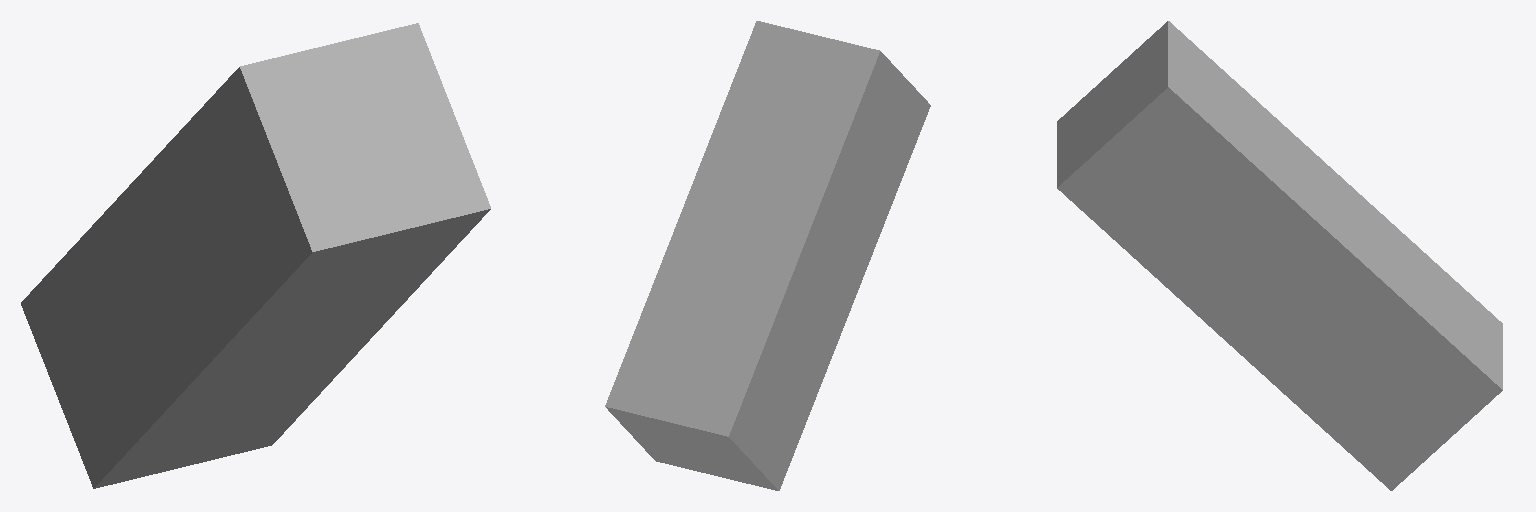
robot.urdf — panda:
<?xml version="1.0" ?>
<robot name="panda" version="1.0">
   <link name="panda_link0">
      <inertial>
         <origin xyz="0.0 0.0 0.0" rpy="0.0 0.0 0.0"/>
         <mass value="2.8142028896"/>
         <inertia ixx="0.0129886979" ixy="0.0" ixz="0.0" iyy="0.0165355284" iyz="0.0" izz="0.0203311636"/>
      </inertial>
      <visual>
         <geometry>
            <mesh filename="package://franka_description/meshes/visual/link0.dae"/>
         </geometry>
      </visual>
      <collision>
         <geometry>
            <mesh filename="package://franka_description/meshes/collision/link0.stl"/>
         </geometry>
      </collision>
   </link>
   <link name="panda_link1">
      <inertial>
         <origin xyz="0.0 0.0 0.0" rpy="0.0 0.0 0.0"/>
         <mass value="2.3599995791"/>
         <inertia ixx="0.0186863903" ixy="0.0" ixz="0.0" iyy="0.0143789874" iyz="0.0" izz="0.00906812"/>
      </inertial>
      <visual>
         <geometry>
            <mesh filename="package://franka_description/meshes/visual/link1.dae"/>
         </geometry>
      </visual>
      <collision>
         <geometry>
            <mesh filename="package://franka_description/meshes/collision/link1.stl"/>
         </geometry>
      </collision>
   </link>
   <joint name="panda_joint1" type="revolute">
      <origin xyz="0.0 0.0 0.333" rpy="0.0 0.0 0.0"/>
      <axis xyz="0.0 0.0 1.0"/>
      <parent link="panda_link0"/>
      <child link="panda_link1"/>
      <limit effort="87.0" lower="-2.8973" upper="2.8973" velocity="2.175"/>
      <safety_controller k_velocity="40.0" k_position="100.0" soft_lower_limit="-2.8973" soft_upper_limit="2.8973"/>
   </joint>
   <link name="panda_link2">
      <inertial>
         <origin xyz="0.0 0.0 0.0" rpy="0.0 0.0 0.0"/>
         <mass value="2.379518833"/>
         <inertia ixx="0.0190388734" ixy="0.0" ixz="0.0" iyy="0.0091429124" iyz="0.0" izz="0.014697537"/>
      </inertial>
      <visual>
         <geometry>
            <mesh filename="package://franka_description/meshes/visual/link2.dae"/>
         </geometry>
      </visual>
      <collision>
         <geometry>
            <mesh filename="package://franka_description/meshes/collision/link2.stl"/>
         </geometry>
      </collision>
   </link>
   <joint name="panda_joint2" type="revolute">
      <origin xyz="0.0 0.0 0.0" rpy="-1.57079632679 0.0 0.0"/>
      <axis xyz="0.0 0.0 1.0"/>
      <parent link="panda_link1"/>
      <child link="panda_link2"/>
      <limit effort="87.0" lower="-1.7628" upper="1.7628" velocity="2.175"/>
      <safety_controller k_velocity="40.0" k_position="100.0" soft_lower_limit="-1.7628" soft_upper_limit="1.7628"/>
   </joint>
   <link name="panda_link3">
      <inertial>
         <origin xyz="0.0 0.0 0.0" rpy="0.0 0.0 0.0"/>
         <mass value="2.6498823337"/>
         <inertia ixx="0.0129300178" ixy="0.0" ixz="0.0" iyy="0.0150242121" iyz="0.0" izz="0.0142734598"/>
      </inertial>
      <visual>
         <geometry>
            <mesh filename="package://franka_description/meshes/visual/link3.dae"/>
         </geometry>
      </visual>
      <collision>
         <geometry>
            <mesh filename="package://franka_description/meshes/collision/link3.stl"/>
         </geometry>
      </collision>
   </link>
   <joint name="panda_joint3" type="revolute">
      <origin xyz="0.0 -0.316 0.0" rpy="1.57079632679 0.0 0.0"/>
      <axis xyz="0.0 0.0 1.0"/>
      <parent link="panda_link2"/>
      <child link="panda_link3"/>
      <limit effort="87.0" lower="-2.8973" upper="2.8973" velocity="2.175"/>
      <safety_controller k_velocity="40.0" k_position="100.0" soft_lower_limit="-2.8973" soft_upper_limit="2.8973"/>
   </joint>
   <link name="panda_link4">
      <inertial>
         <origin xyz="0.0 0.0 0.0" rpy="0.0 0.0 0.0"/>
         <mass value="2.6948018744"/>
         <inertia ixx="0.0133874611" ixy="0.0" ixz="0.0" iyy="0.014514325" iyz="0.0" izz="0.0155175551"/>
      </inertial>
      <visual>
         <geometry>
            <mesh filename="package://franka_description/meshes/visual/link4.dae"/>
         </geometry>
      </visual>
      <collision>
         <geometry>
            <mesh filename="package://franka_description/meshes/collision/link4.stl"/>
         </geometry>
      </collision>
   </link>
   <joint name="panda_joint4" type="revolute">
      <origin xyz="0.0825 0.0 0.0" rpy="1.57079632679 0.0 0.0"/>
      <axis xyz="0.0 0.0 1.0"/>
      <parent link="panda_link3"/>
      <child link="panda_link4"/>
      <limit effort="87.0" lower="-3.0718" upper="-0.0698" velocity="2.175"/>
      <safety_controller k_velocity="40.0" k_position="100.0" soft_lower_limit="-3.0718" soft_upper_limit="-0.0698"/>
   </joint>
   <link name="panda_link5">
      <inertial>
         <origin xyz="0.0 0.0 0.0" rpy="0.0 0.0 0.0"/>
         <mass value="2.9812816864"/>
         <inertia ixx="0.0325565705" ixy="0.0" ixz="0.0" iyy="0.0270660472" iyz="0.0" izz="0.0115023375"/>
      </inertial>
      <visual>
         <geometry>
            <mesh filename="package://franka_description/meshes/visual/link5.dae"/>
         </geometry>
      </visual>
      <collision>
         <geometry>
            <mesh filename="package://franka_description/meshes/collision/link5.stl"/>
         </geometry>
      </collision>
   </link>
   <joint name="panda_joint5" type="revolute">
      <origin xyz="-0.0825 0.384 0.0" rpy="-1.57079632679 0.0 0.0"/>
      <axis xyz="0.0 0.0 1.0"/>
      <parent link="panda_link4"/>
      <child link="panda_link5"/>
      <limit effort="12.0" lower="-2.8973" upper="2.8973" velocity="2.61"/>
      <safety_controller k_velocity="40.0" k_position="100.0" soft_lower_limit="-2.8973" soft_upper_limit="2.8973"/>
   </joint>
   <link name="panda_link6">
      <inertial>
         <origin xyz="0.0 0.0 0.0" rpy="0.0 0.0 0.0"/>
         <mass value="1.1285806309"/>
         <inertia ixx="0.0026052565" ixy="0.0" ixz="0.0" iyy="0.0039897229" iyz="0.0" izz="0.0047048591"/>
      </inertial>
      <visual>
         <geometry>
            <mesh filename="package://franka_description/meshes/visual/link6.dae"/>
         </geometry>
      </visual>
      <collision>
         <geometry>
            <mesh filename="package://franka_description/meshes/collision/link6.stl"/>
         </geometry>
      </collision>
   </link>
   <joint name="panda_joint6" type="revolute">
      <origin xyz="0.0 0.0 0.0" rpy="1.57079632679 0.0 0.0"/>
      <axis xyz="0.0 0.0 1.0"/>
      <parent link="panda_link5"/>
      <child link="panda_link6"/>
      <limit effort="12.0" lower="-0.0175" upper="3.7525" velocity="2.61"/>
      <safety_controller k_velocity="40.0" k_position="100.0" soft_lower_limit="-0.0175" soft_upper_limit="3.7525"/>
   </joint>
   <link name="panda_link7">
      <inertial>
         <origin xyz="0.0 0.0 0.0" rpy="0.0 0.0 0.0"/>
         <mass value="0.4052912465"/>
         <inertia ixx="0.0006316592" ixy="0.0" ixz="0.0" iyy="0.0006319639" iyz="0.0" izz="0.0010607721"/>
      </inertial>
      <visual>
         <geometry>
            <mesh filename="package://franka_description/meshes/visual/link7.dae"/>
         </geometry>
      </visual>
      <collision>
         <geometry>
            <mesh filename="package://franka_description/meshes/collision/link7.stl"/>
         </geometry>
      </collision>
   </link>
   <joint name="panda_joint7" type="revolute">
      <origin xyz="0.088 0.0 0.0" rpy="1.57079632679 0.0 0.0"/>
      <axis xyz="0.0 0.0 1.0"/>
      <parent link="panda_link6"/>
      <child link="panda_link7"/>
      <limit effort="12.0" lower="-2.8973" upper="2.8973" velocity="2.61"/>
      <safety_controller k_velocity="40.0" k_position="100.0" soft_lower_limit="-2.8973" soft_upper_limit="2.8973"/>
   </joint>
   <link name="panda_link8"/>
   <joint name="panda_joint8" type="fixed">
      <origin xyz="0.0 0.0 0.107" rpy="0.0 0.0 0.0"/>
      <axis xyz="0.0 0.0 0.0"/>
      <parent link="panda_link7"/>
      <child link="panda_link8"/>
   </joint>
   <joint name="panda_hand_joint" type="fixed">
      <origin xyz="0.0 0.0 0.0" rpy="0.0 0.0 -0.785398163397"/>
      <parent link="panda_link8"/>
      <child link="panda_hand"/>
   </joint>
   <link name="panda_hand">
      <inertial>
         <origin xyz="0.0 0.0 0.0" rpy="0.0 0.0 0.0"/>
         <mass value="0.5583304799"/>
         <inertia ixx="0.0023394448" ixy="0.0" ixz="0.0" iyy="0.0005782786" iyz="0.0" izz="0.0021310296"/>
      </inertial>
      <visual>
         <geometry>
            <mesh filename="package://franka_description/meshes/visual/hand.dae"/>
         </geometry>
      </visual>
      <collision>
         <geometry>
            <mesh filename="package://franka_description/meshes/collision/hand.stl"/>
         </geometry>
      </collision>
   </link>
   <joint name="ee_fixed_joint" type="fixed">
      <origin xyz="0.0 0.0 0.1" rpy="0.0 0.0 -1.57"/>
      <parent link="panda_hand"/>
      <child link="ee_link"/>
   </joint>
   <link name="ee_link">
      <collision>
         <origin xyz="0.0 0.0 0.0" rpy="0.0 0.0 0.0"/>
         <geometry>
            <box size="0.01 0.01 0.01"/>
         </geometry>
      </collision>
   </link>
   <joint name="joint_panda_link2_sphere_0" type="fixed">
      <origin xyz="0.0 0.0 0.03" rpy="0.0 0.0 0.0"/>
      <parent link="panda_link2"/>
      <child link="panda_link2_0"/>
   </joint>
   <link name="panda_link2_0">
      <origin xyz="0.0 0.0 0.0" rpy="0.0 0.0 0.0"/>
   </link>
   <joint name="joint_panda_link2_sphere_1" type="fixed">
      <origin xyz="0.0 0.0 0.08" rpy="0.0 0.0 0.0"/>
      <parent link="panda_link2"/>
      <child link="panda_link2_1"/>
   </joint>
   <link name="panda_link2_1">
      <origin xyz="0.0 0.0 0.0" rpy="0.0 0.0 0.0"/>
   </link>
   <joint name="joint_panda_link2_sphere_2" type="fixed">
      <origin xyz="0.0 -0.12 0.0" rpy="0.0 0.0 0.0"/>
      <parent link="panda_link2"/>
      <child link="panda_link2_2"/>
   </joint>
   <link name="panda_link2_2">
      <origin xyz="0.0 0.0 0.0" rpy="0.0 0.0 0.0"/>
   </link>
   <joint name="joint_panda_link2_sphere_3" type="fixed">
      <origin xyz="0.0 -0.17 0.0" rpy="0.0 0.0 0.0"/>
      <parent link="panda_link2"/>
      <child link="panda_link2_3"/>
   </joint>
   <link name="panda_link2_3">
      <origin xyz="0.0 0.0 0.0" rpy="0.0 0.0 0.0"/>
   </link>
   <joint name="joint_panda_link3_sphere_0" type="fixed">
      <origin xyz="0.0 0.0 -0.06" rpy="0.0 0.0 0.0"/>
      <parent link="panda_link3"/>
      <child link="panda_link3_0"/>
   </joint>
   <link name="panda_link3_0">
      <origin xyz="0.0 0.0 0.0" rpy="0.0 0.0 0.0"/>
   </link>
   <joint name="joint_panda_link3_sphere_1" type="fixed">
      <origin xyz="0.0 0.0 -0.1" rpy="0.0 0.0 0.0"/>
      <parent link="panda_link3"/>
      <child link="panda_link3_1"/>
   </joint>
   <link name="panda_link3_1">
      <origin xyz="0.0 0.0 0.0" rpy="0.0 0.0 0.0"/>
   </link>
   <joint name="joint_panda_link3_sphere_2" type="fixed">
      <origin xyz="0.08 0.06 0.0" rpy="0.0 0.0 0.0"/>
      <parent link="panda_link3"/>
      <child link="panda_link3_2"/>
   </joint>
   <link name="panda_link3_2">
      <origin xyz="0.0 0.0 0.0" rpy="0.0 0.0 0.0"/>
   </link>
   <joint name="joint_panda_link3_sphere_3" type="fixed">
      <origin xyz="0.08 0.02 0.0" rpy="0.0 0.0 0.0"/>
      <parent link="panda_link3"/>
      <child link="panda_link3_3"/>
   </joint>
   <link name="panda_link3_3">
      <origin xyz="0.0 0.0 0.0" rpy="0.0 0.0 0.0"/>
   </link>
   <joint name="joint_panda_link4_sphere_0" type="fixed">
      <origin xyz="0.0 0.0 0.02" rpy="0.0 0.0 0.0"/>
      <parent link="panda_link4"/>
      <child link="panda_link4_0"/>
   </joint>
   <link name="panda_link4_0">
      <origin xyz="0.0 0.0 0.0" rpy="0.0 0.0 0.0"/>
   </link>
   <joint name="joint_panda_link4_sphere_1" type="fixed">
      <origin xyz="0.0 0.0 0.06" rpy="0.0 0.0 0.0"/>
      <parent link="panda_link4"/>
      <child link="panda_link4_1"/>
   </joint>
   <link name="panda_link4_1">
      <origin xyz="0.0 0.0 0.0" rpy="0.0 0.0 0.0"/>
   </link>
   <joint name="joint_panda_link4_sphere_2" type="fixed">
      <origin xyz="-0.08 0.095 0.0" rpy="0.0 0.0 0.0"/>
      <parent link="panda_link4"/>
      <child link="panda_link4_2"/>
   </joint>
   <link name="panda_link4_2">
      <origin xyz="0.0 0.0 0.0" rpy="0.0 0.0 0.0"/>
   </link>
   <joint name="joint_panda_link4_sphere_3" type="fixed">
      <origin xyz="-0.08 0.06 0.0" rpy="0.0 0.0 0.0"/>
      <parent link="panda_link4"/>
      <child link="panda_link4_3"/>
   </joint>
   <link name="panda_link4_3">
      <origin xyz="0.0 0.0 0.0" rpy="0.0 0.0 0.0"/>
   </link>
   <joint name="joint_panda_link5_sphere_0" type="fixed">
      <origin xyz="0.0 0.055 0.0" rpy="0.0 0.0 0.0"/>
      <parent link="panda_link5"/>
      <child link="panda_link5_0"/>
   </joint>
   <link name="panda_link5_0">
      <origin xyz="0.0 0.0 0.0" rpy="0.0 0.0 0.0"/>
   </link>
   <joint name="joint_panda_link5_sphere_1" type="fixed">
      <origin xyz="0.0 0.075 0.0" rpy="0.0 0.0 0.0"/>
      <parent link="panda_link5"/>
      <child link="panda_link5_1"/>
   </joint>
   <link name="panda_link5_1">
      <origin xyz="0.0 0.0 0.0" rpy="0.0 0.0 0.0"/>
   </link>
   <joint name="joint_panda_link5_sphere_2" type="fixed">
      <origin xyz="0.0 0.0 -0.22" rpy="0.0 0.0 0.0"/>
      <parent link="panda_link5"/>
      <child link="panda_link5_2"/>
   </joint>
   <link name="panda_link5_2">
      <origin xyz="0.0 0.0 0.0" rpy="0.0 0.0 0.0"/>
   </link>
   <joint name="joint_panda_link5_sphere_3" type="fixed">
      <origin xyz="0.0 0.05 -0.18" rpy="0.0 0.0 0.0"/>
      <parent link="panda_link5"/>
      <child link="panda_link5_3"/>
   </joint>
   <link name="panda_link5_3">
      <origin xyz="0.0 0.0 0.0" rpy="0.0 0.0 0.0"/>
   </link>
   <joint name="joint_panda_link5_sphere_4" type="fixed">
      <origin xyz="0.01 0.08 -0.14" rpy="0.0 0.0 0.0"/>
      <parent link="panda_link5"/>
      <child link="panda_link5_4"/>
   </joint>
   <link name="panda_link5_4">
      <origin xyz="0.0 0.0 0.0" rpy="0.0 0.0 0.0"/>
   </link>
   <joint name="joint_panda_link5_sphere_5" type="fixed">
      <origin xyz="0.01 0.085 -0.11" rpy="0.0 0.0 0.0"/>
      <parent link="panda_link5"/>
      <child link="panda_link5_5"/>
   </joint>
   <link name="panda_link5_5">
      <origin xyz="0.0 0.0 0.0" rpy="0.0 0.0 0.0"/>
   </link>
   <joint name="joint_panda_link5_sphere_6" type="fixed">
      <origin xyz="0.01 0.09 -0.08" rpy="0.0 0.0 0.0"/>
      <parent link="panda_link5"/>
      <child link="panda_link5_6"/>
   </joint>
   <link name="panda_link5_6">
      <origin xyz="0.0 0.0 0.0" rpy="0.0 0.0 0.0"/>
   </link>
   <joint name="joint_panda_link5_sphere_7" type="fixed">
      <origin xyz="0.01 0.095 -0.05" rpy="0.0 0.0 0.0"/>
      <parent link="panda_link5"/>
      <child link="panda_link5_7"/>
   </joint>
   <link name="panda_link5_7">
      <origin xyz="0.0 0.0 0.0" rpy="0.0 0.0 0.0"/>
   </link>
   <joint name="joint_panda_link5_sphere_8" type="fixed">
      <origin xyz="-0.01 0.08 -0.14" rpy="0.0 0.0 0.0"/>
      <parent link="panda_link5"/>
      <child link="panda_link5_8"/>
   </joint>
   <link name="panda_link5_8">
      <origin xyz="0.0 0.0 0.0" rpy="0.0 0.0 0.0"/>
   </link>
   <joint name="joint_panda_link5_sphere_9" type="fixed">
      <origin xyz="-0.01 0.085 -0.11" rpy="0.0 0.0 0.0"/>
      <parent link="panda_link5"/>
      <child link="panda_link5_9"/>
   </joint>
   <link name="panda_link5_9">
      <origin xyz="0.0 0.0 0.0" rpy="0.0 0.0 0.0"/>
   </link>
   <joint name="joint_panda_link5_sphere_10" type="fixed">
      <origin xyz="-0.01 0.09 -0.08" rpy="0.0 0.0 0.0"/>
      <parent link="panda_link5"/>
      <child link="panda_link5_10"/>
   </joint>
   <link name="panda_link5_10">
      <origin xyz="0.0 0.0 0.0" rpy="0.0 0.0 0.0"/>
   </link>
   <joint name="joint_panda_link5_sphere_11" type="fixed">
      <origin xyz="-0.01 0.095 -0.05" rpy="0.0 0.0 0.0"/>
      <parent link="panda_link5"/>
      <child link="panda_link5_11"/>
   </joint>
   <link name="panda_link5_11">
      <origin xyz="0.0 0.0 0.0" rpy="0.0 0.0 0.0"/>
   </link>
   <joint name="joint_panda_link6_sphere_0" type="fixed">
      <origin xyz="0.0 0.0 0.0" rpy="0.0 0.0 0.0"/>
      <parent link="panda_link6"/>
      <child link="panda_link6_0"/>
   </joint>
   <link name="panda_link6_0">
      <origin xyz="0.0 0.0 0.0" rpy="0.0 0.0 0.0"/>
   </link>
   <joint name="joint_panda_link6_sphere_1" type="fixed">
      <origin xyz="0.08 0.03 0.0" rpy="0.0 0.0 0.0"/>
      <parent link="panda_link6"/>
      <child link="panda_link6_1"/>
   </joint>
   <link name="panda_link6_1">
      <origin xyz="0.0 0.0 0.0" rpy="0.0 0.0 0.0"/>
   </link>
   <joint name="joint_panda_link6_sphere_2" type="fixed">
      <origin xyz="0.08 -0.01 0.0" rpy="0.0 0.0 0.0"/>
      <parent link="panda_link6"/>
      <child link="panda_link6_2"/>
   </joint>
   <link name="panda_link6_2">
      <origin xyz="0.0 0.0 0.0" rpy="0.0 0.0 0.0"/>
   </link>
   <joint name="joint_panda_link7_sphere_0" type="fixed">
      <origin xyz="0.0 0.0 0.07" rpy="0.0 0.0 0.0"/>
      <parent link="panda_link7"/>
      <child link="panda_link7_0"/>
   </joint>
   <link name="panda_link7_0">
      <origin xyz="0.0 0.0 0.0" rpy="0.0 0.0 0.0"/>
   </link>
   <joint name="joint_panda_link7_sphere_1" type="fixed">
      <origin xyz="0.02 0.04 0.08" rpy="0.0 0.0 0.0"/>
      <parent link="panda_link7"/>
      <child link="panda_link7_1"/>
   </joint>
   <link name="panda_link7_1">
      <origin xyz="0.0 0.0 0.0" rpy="0.0 0.0 0.0"/>
   </link>
   <joint name="joint_panda_link7_sphere_2" type="fixed">
      <origin xyz="0.04 0.02 0.08" rpy="0.0 0.0 0.0"/>
      <parent link="panda_link7"/>
      <child link="panda_link7_2"/>
   </joint>
   <link name="panda_link7_2">
      <origin xyz="0.0 0.0 0.0" rpy="0.0 0.0 0.0"/>
   </link>
   <joint name="joint_panda_link7_sphere_3" type="fixed">
      <origin xyz="0.04 0.06 0.085" rpy="0.0 0.0 0.0"/>
      <parent link="panda_link7"/>
      <child link="panda_link7_3"/>
   </joint>
   <link name="panda_link7_3">
      <origin xyz="0.0 0.0 0.0" rpy="0.0 0.0 0.0"/>
   </link>
   <joint name="joint_panda_link7_sphere_4" type="fixed">
      <origin xyz="0.06 0.04 0.085" rpy="0.0 0.0 0.0"/>
      <parent link="panda_link7"/>
      <child link="panda_link7_4"/>
   </joint>
   <link name="panda_link7_4">
      <origin xyz="0.0 0.0 0.0" rpy="0.0 0.0 0.0"/>
   </link>
   <joint name="joint_panda_hand_sphere_0" type="fixed">
      <origin xyz="0.0 -0.075 0.01" rpy="0.0 0.0 0.0"/>
      <parent link="panda_hand"/>
      <child link="panda_hand_0"/>
   </joint>
   <link name="panda_hand_0">
      <origin xyz="0.0 0.0 0.0" rpy="0.0 0.0 0.0"/>
   </link>
   <joint name="joint_panda_hand_sphere_1" type="fixed">
      <origin xyz="0.0 -0.015 0.01" rpy="0.0 0.0 0.0"/>
      <parent link="panda_hand"/>
      <child link="panda_hand_1"/>
   </joint>
   <link name="panda_hand_1">
      <origin xyz="0.0 0.0 0.0" rpy="0.0 0.0 0.0"/>
   </link>
   <joint name="joint_panda_hand_sphere_2" type="fixed">
      <origin xyz="0.0 0.015 0.01" rpy="0.0 0.0 0.0"/>
      <parent link="panda_hand"/>
      <child link="panda_hand_2"/>
   </joint>
   <link name="panda_hand_2">
      <origin xyz="0.0 0.0 0.0" rpy="0.0 0.0 0.0"/>
   </link>
   <joint name="joint_panda_hand_sphere_3" type="fixed">
      <origin xyz="0.0 0.075 0.01" rpy="0.0 0.0 0.0"/>
      <parent link="panda_hand"/>
      <child link="panda_hand_3"/>
   </joint>
   <link name="panda_hand_3">
      <origin xyz="0.0 0.0 0.0" rpy="0.0 0.0 0.0"/>
   </link>
   <joint name="joint_panda_hand_sphere_4" type="fixed">
      <origin xyz="0.0 -0.075 0.03" rpy="0.0 0.0 0.0"/>
      <parent link="panda_hand"/>
      <child link="panda_hand_4"/>
   </joint>
   <link name="panda_hand_4">
      <origin xyz="0.0 0.0 0.0" rpy="0.0 0.0 0.0"/>
   </link>
   <joint name="joint_panda_hand_sphere_5" type="fixed">
      <origin xyz="0.0 -0.015 0.03" rpy="0.0 0.0 0.0"/>
      <parent link="panda_hand"/>
      <child link="panda_hand_5"/>
   </joint>
   <link name="panda_hand_5">
      <origin xyz="0.0 0.0 0.0" rpy="0.0 0.0 0.0"/>
   </link>
   <joint name="joint_panda_hand_sphere_6" type="fixed">
      <origin xyz="0.0 0.015 0.03" rpy="0.0 0.0 0.0"/>
      <parent link="panda_hand"/>
      <child link="panda_hand_6"/>
   </joint>
   <link name="panda_hand_6">
      <origin xyz="0.0 0.0 0.0" rpy="0.0 0.0 0.0"/>
   </link>
   <joint name="joint_panda_hand_sphere_7" type="fixed">
      <origin xyz="0.0 0.075 0.03" rpy="0.0 0.0 0.0"/>
      <parent link="panda_hand"/>
      <child link="panda_hand_7"/>
   </joint>
   <link name="panda_hand_7">
      <origin xyz="0.0 0.0 0.0" rpy="0.0 0.0 0.0"/>
   </link>
   <joint name="joint_panda_hand_sphere_8" type="fixed">
      <origin xyz="0.0 -0.075 0.05" rpy="0.0 0.0 0.0"/>
      <parent link="panda_hand"/>
      <child link="panda_hand_8"/>
   </joint>
   <link name="panda_hand_8">
      <origin xyz="0.0 0.0 0.0" rpy="0.0 0.0 0.0"/>
   </link>
   <joint name="joint_panda_hand_sphere_9" type="fixed">
      <origin xyz="0.0 -0.015 0.05" rpy="0.0 0.0 0.0"/>
      <parent link="panda_hand"/>
      <child link="panda_hand_9"/>
   </joint>
   <link name="panda_hand_9">
      <origin xyz="0.0 0.0 0.0" rpy="0.0 0.0 0.0"/>
   </link>
   <joint name="joint_panda_hand_sphere_10" type="fixed">
      <origin xyz="0.0 0.015 0.05" rpy="0.0 0.0 0.0"/>
      <parent link="panda_hand"/>
      <child link="panda_hand_10"/>
   </joint>
   <link name="panda_hand_10">
      <origin xyz="0.0 0.0 0.0" rpy="0.0 0.0 0.0"/>
   </link>
   <joint name="joint_panda_hand_sphere_11" type="fixed">
      <origin xyz="0.0 0.075 0.05" rpy="0.0 0.0 0.0"/>
      <parent link="panda_hand"/>
      <child link="panda_hand_11"/>
   </joint>
   <link name="panda_hand_11">
      <origin xyz="0.0 0.0 0.0" rpy="0.0 0.0 0.0"/>
   </link>
   <joint name="grasped_object_fixed_joint" type="fixed">
      <origin xyz="0.0 0.0 0.11" rpy="3.1415927 -1.5707964 0.0"/>
      <parent link="panda_hand"/>
      <child link="grasped_object"/>
   </joint>
   <link name="grasped_object">
      <origin xyz="0.0 0.0 0.0" rpy="0.0 0.0 0.0"/>
      <visual>
         <geometry>
            <box size="0.05 0.05 0.15"/>
         </geometry>
      </visual>
      <collision>
         <geometry>
            <box size="0.05 0.05 0.15"/>
         </geometry>
      </collision>
   </link>
</robot>

--- Facts derived from the render (not from the file) ---
Views: 3 orthographic renders of the robot side by side, from view 1: azimuth 30°, elevation 25°; view 2: azimuth 150°, elevation 25°; view 3: azimuth 270°, elevation 25°.
Robot: panda — 56 links, 55 joints (7 revolute, 48 fixed); root link panda_link0; default pose: joints at zero except 1 at the middle of their limits (panda_joint4 = -1.57).
Links seen in each view (by area): view 1: grasped_object; view 2: grasped_object; view 3: grasped_object.
Boxes of the visible links, x1,y1,x2,y2 form: grasped_object: (21,23,490,488); grasped_object: (605,21,930,490); grasped_object: (1057,21,1502,490).
Size in the robot's own frame: 0.05 by 0.1414 by 0.1414 metres.
Meshes: 9 distinct files referenced, 0 mesh visuals loaded (none loaded); not drawn: 9 (reference not matched to a file when rendering).